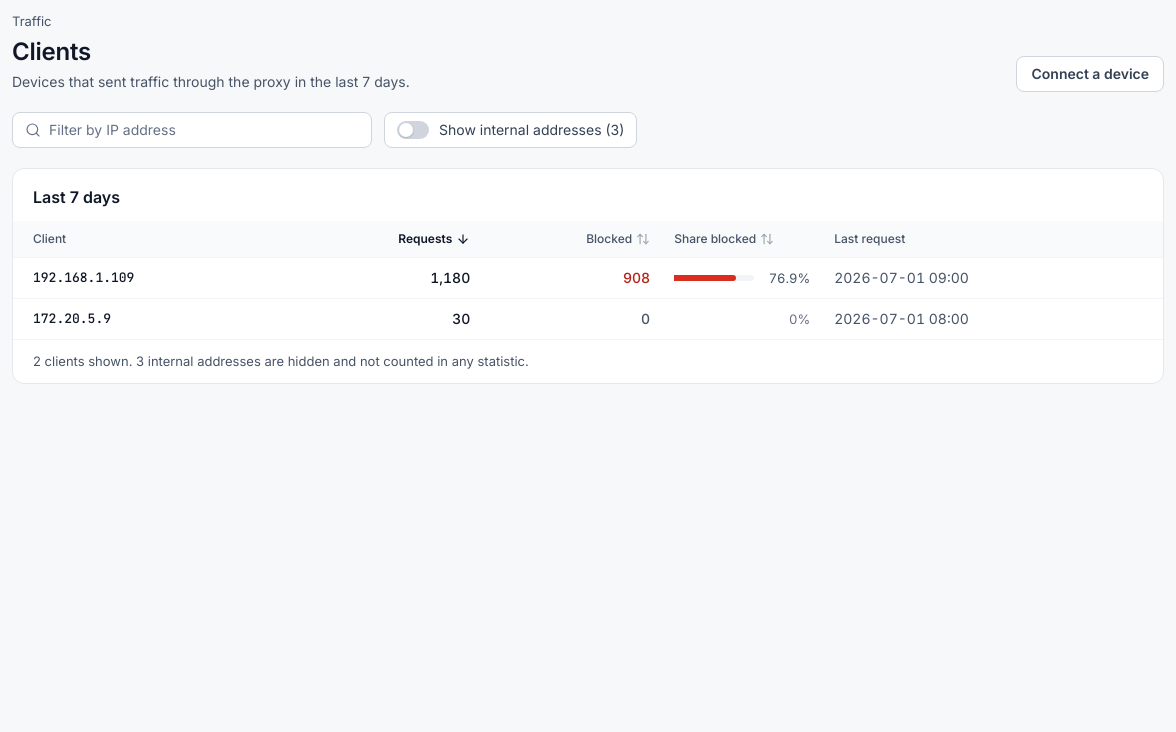
it: Clients › hides the internal addresses until the viewer shows them, and says how many it hides
Check: the text "2 clients shown. 3 internal addresses are hidden and not counted in any statistic." is shown, box [33,352,529,368]
Click the switch named "Show internal addresses (3)".
click(413, 130)  # box [397,120,429,138]
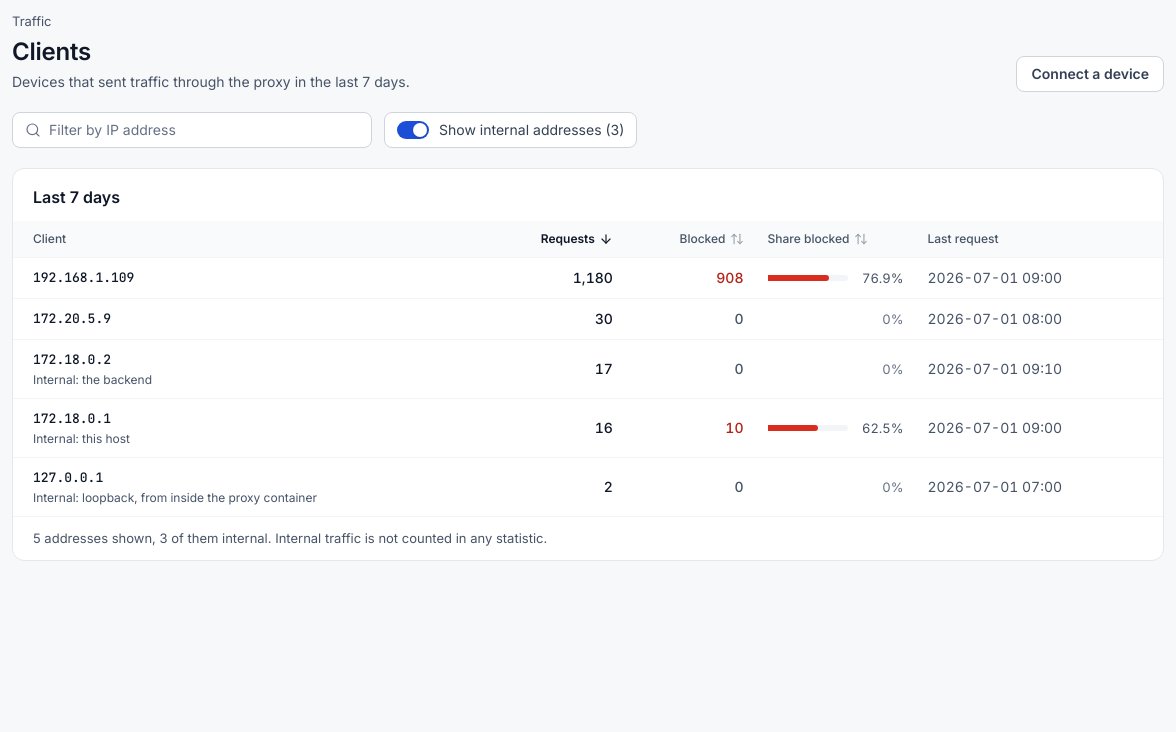
Check: the text "Internal: this host" is shown, box [33,430,130,446]
Check: the text "5 addresses shown, 3 of them internal. Internal traffic is not counted in any statistic." is shown, box [33,530,547,546]
